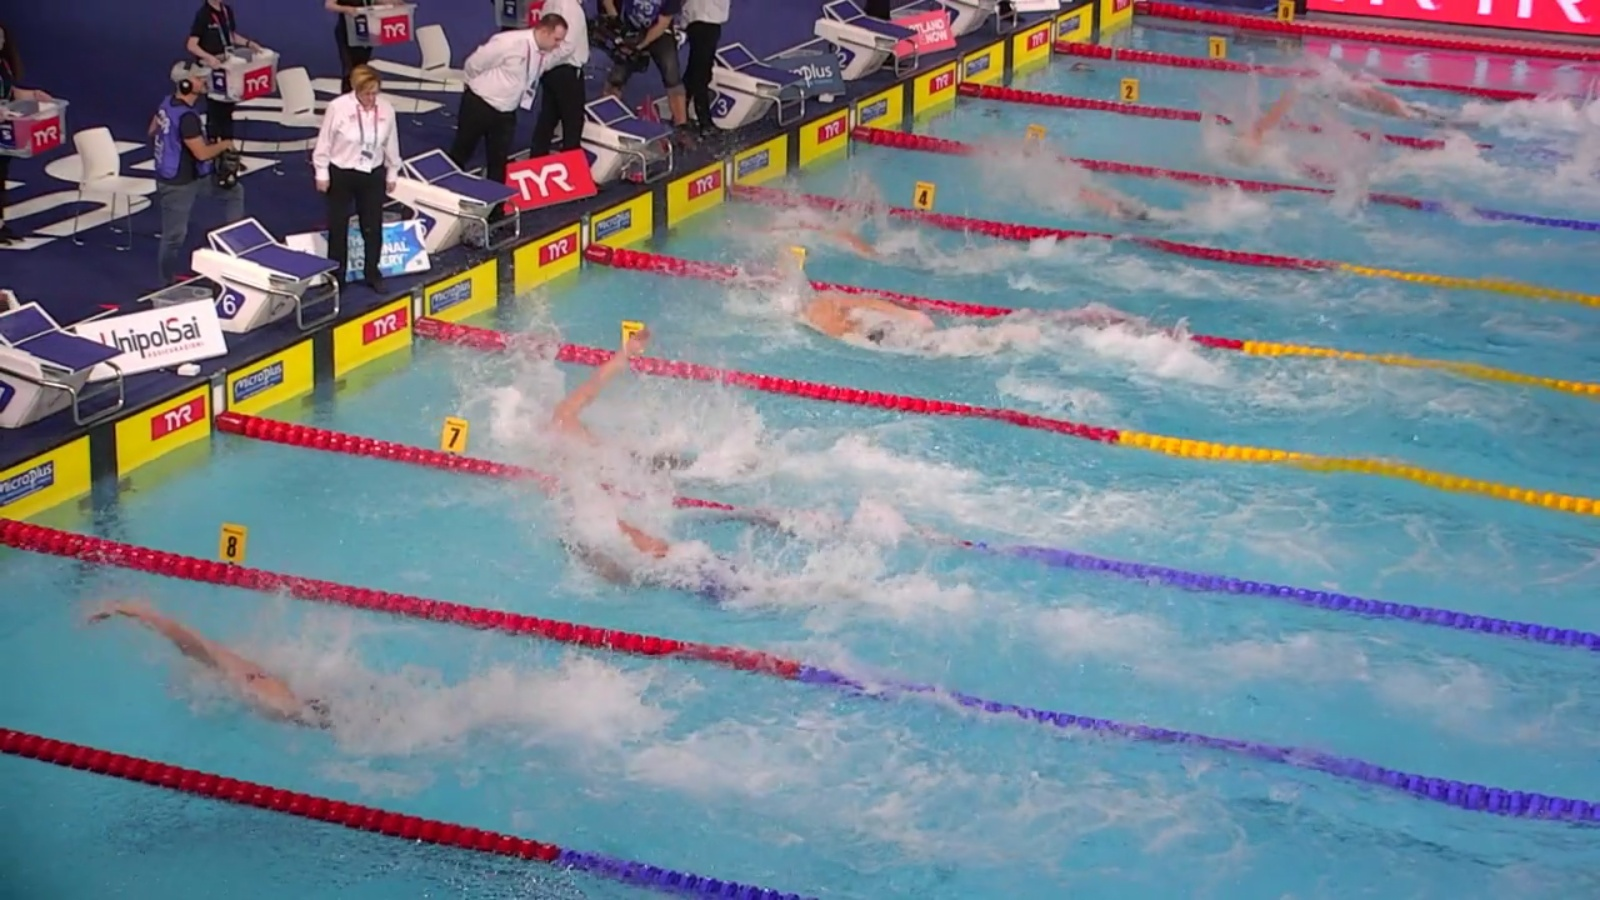swimmerw: (81, 599, 555, 762), (527, 347, 789, 493), (553, 504, 887, 619), (753, 284, 1041, 367), (1005, 169, 1238, 248), (759, 207, 967, 279), (1227, 92, 1373, 189), (1307, 71, 1453, 127)
